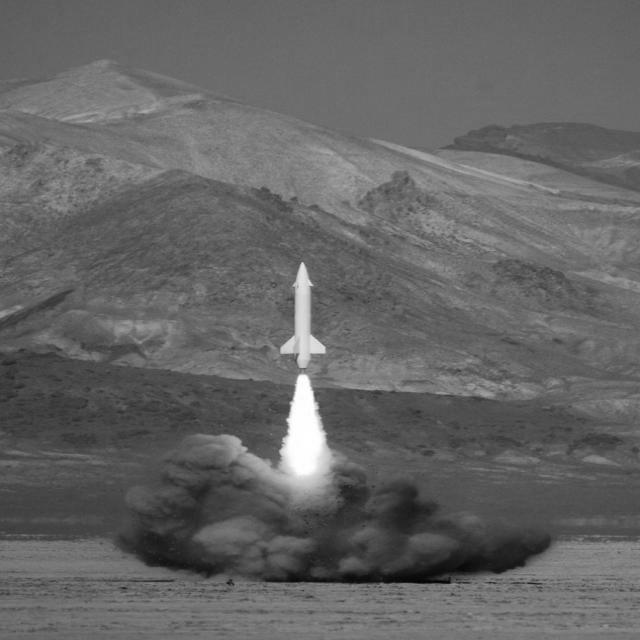missile: (294, 262, 313, 380)
